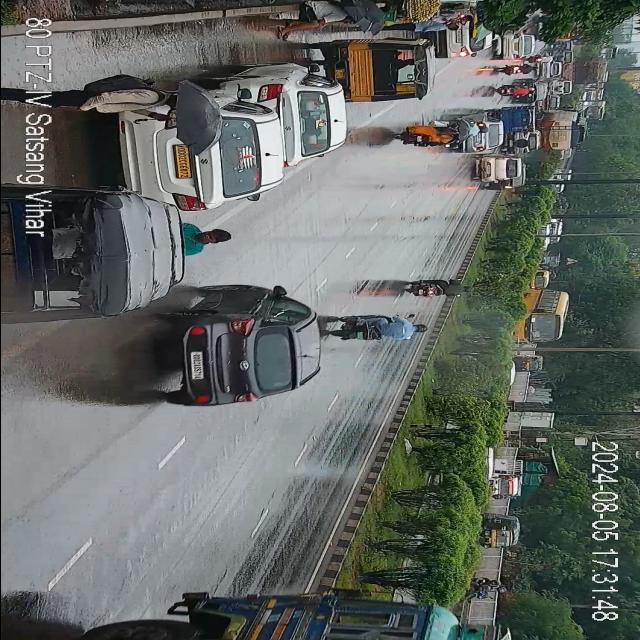2-wheelers: (326, 312, 426, 348), (398, 276, 472, 302), (394, 126, 460, 147), (478, 154, 524, 184), (494, 62, 540, 76)
auto: (0, 192, 179, 320), (346, 42, 426, 102), (478, 517, 522, 551), (501, 106, 536, 132), (494, 90, 538, 98)
bus: (514, 288, 572, 346)
car: (157, 287, 318, 393), (114, 109, 280, 202), (230, 66, 346, 168), (274, 0, 358, 40), (450, 114, 496, 156), (494, 31, 538, 61)
pedestrian: (16, 80, 182, 116), (374, 20, 468, 36), (183, 224, 225, 252)
truck: (73, 596, 510, 640), (541, 110, 587, 156), (568, 54, 608, 84)
